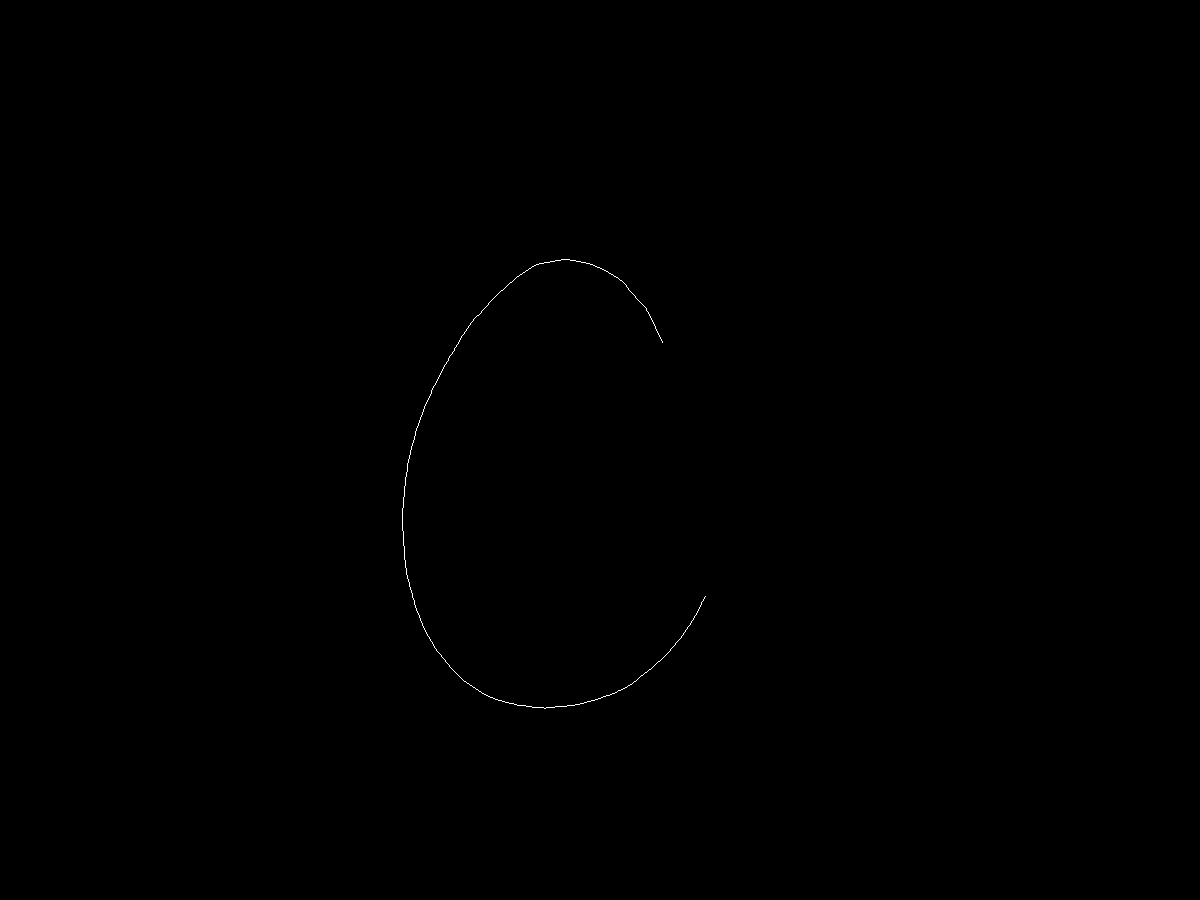dian1: (654, 331, 671, 354)
dian2: (699, 585, 716, 602)
